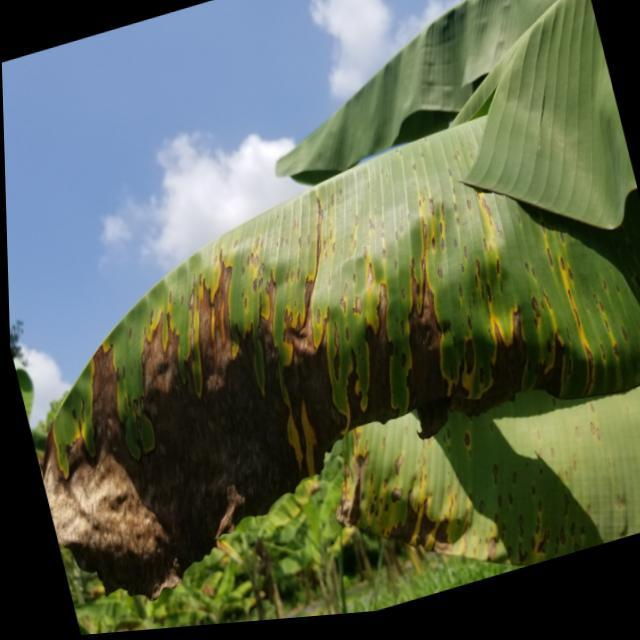Early_rust: (10, 104, 640, 561)
